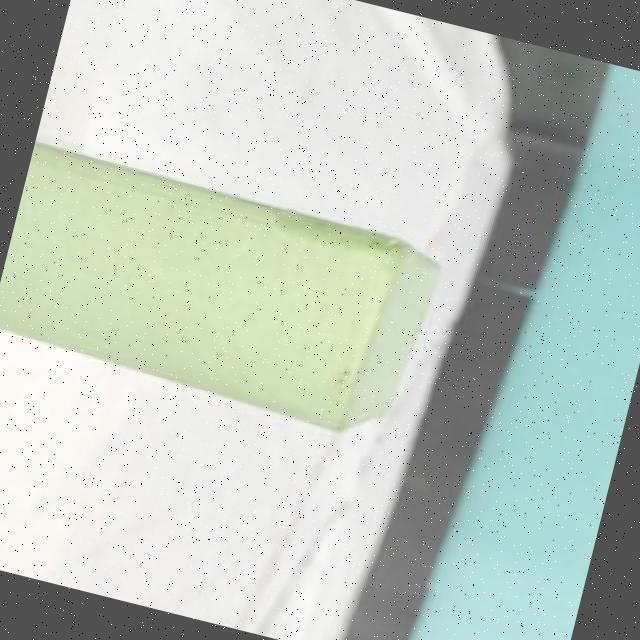greenbox: (0, 140, 455, 454)
